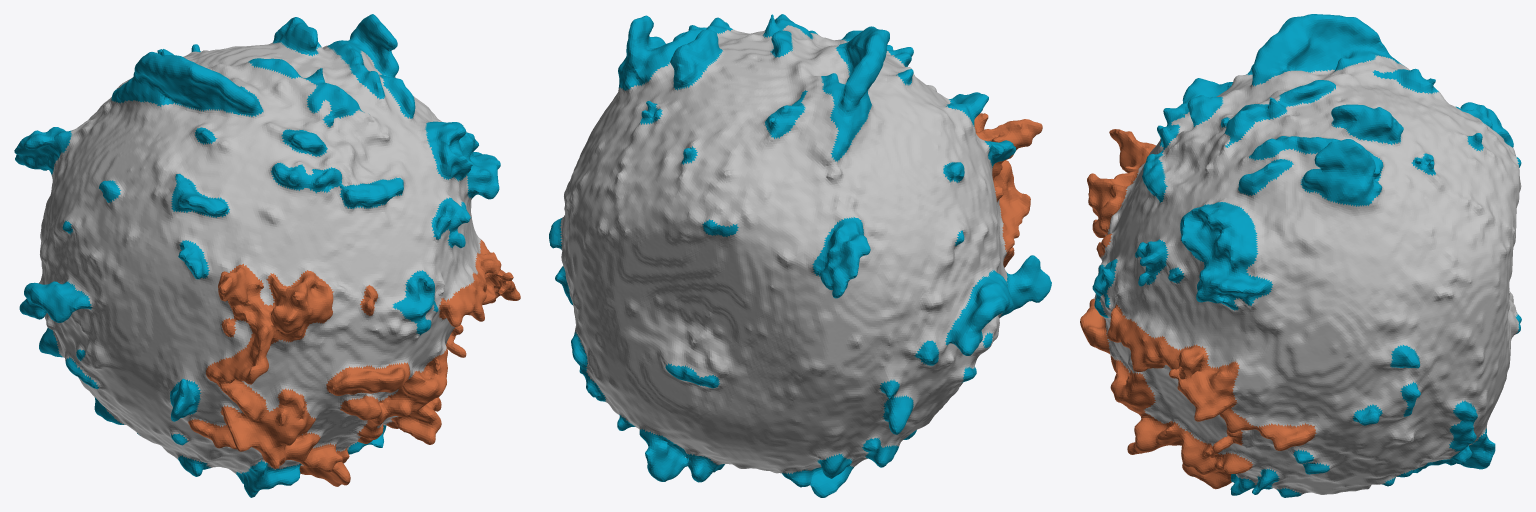
3 renders of one model, left to right at view 1: azimuth 30°, elevation 25°; view 2: azimuth 150°, elevation 25°; view 3: azimuth 270°, elevation 25°, orthographic. The views are drawn at different scales.
Bounding box in the file's own units: 163 × 158 × 149.
